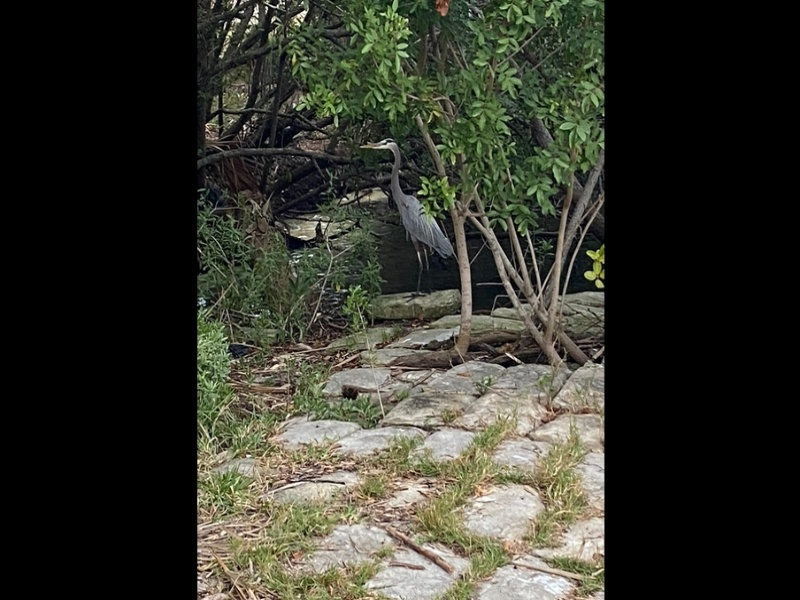heron: (357, 133, 459, 296)
